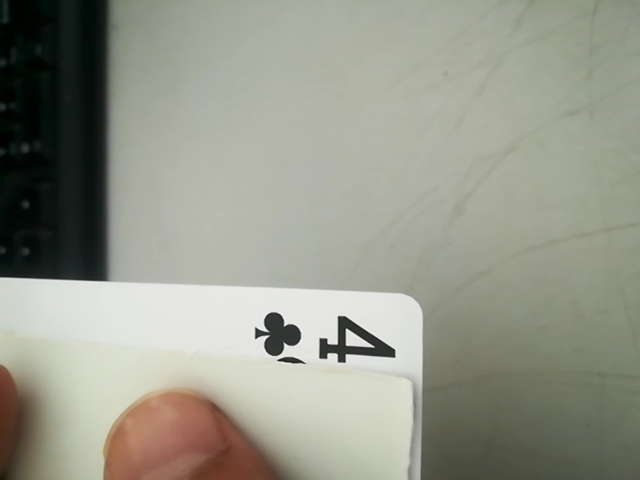mh 4: (233, 294, 418, 387)
